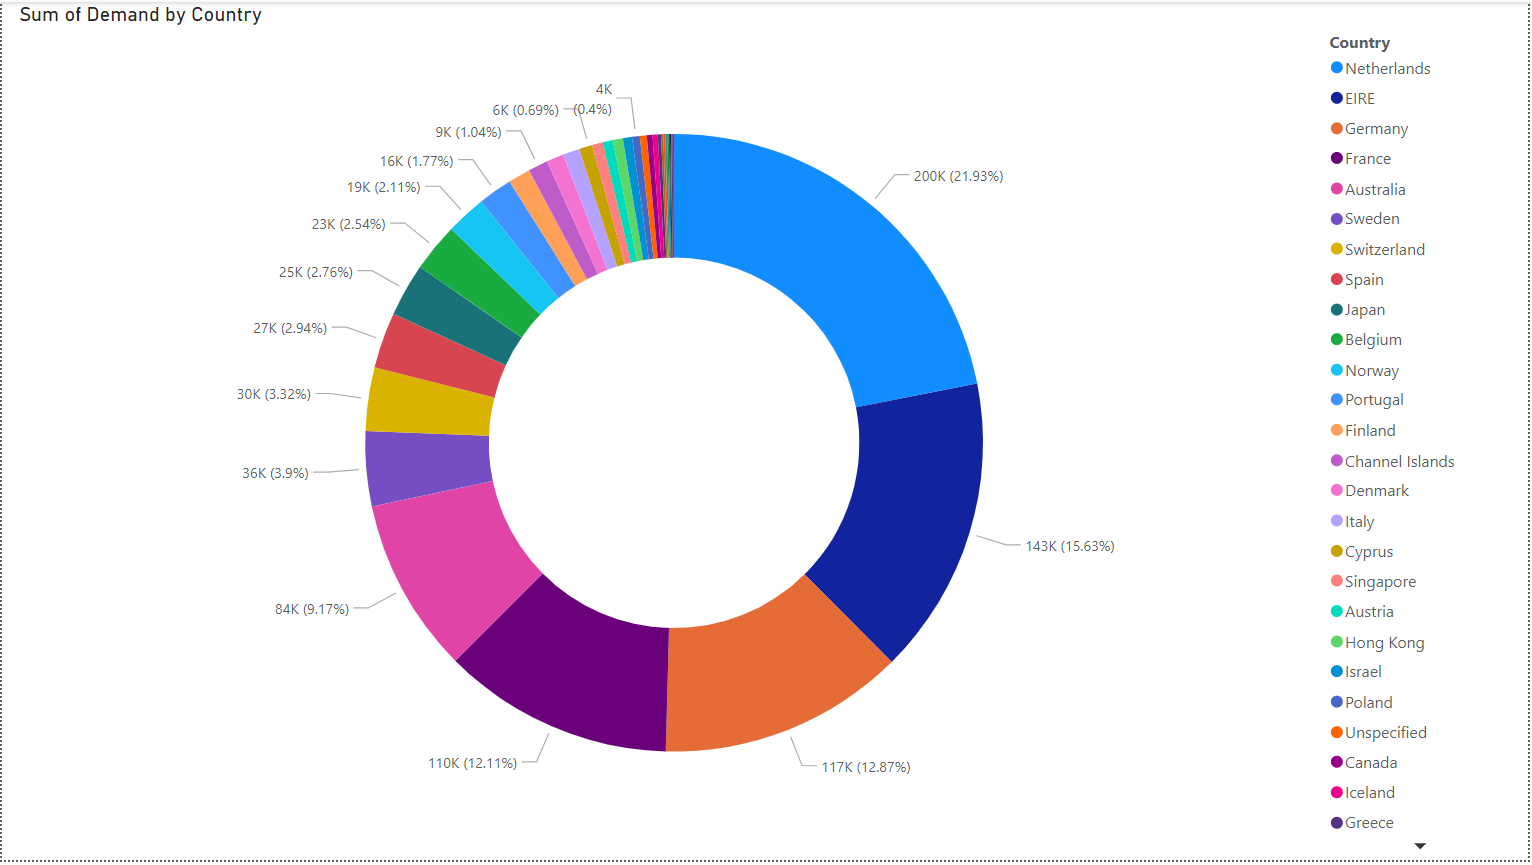

The dashboard page shown, as its layout file describes it:
{"tool":"powerbi","page":{"name":"Question 4","canvas":[1280,720],"ordinal":3},"visuals":[{"type":"donutChart","fields":{"Category":["q4 final.Country"],"Y":["Sum(q4 final.Demand)"]},"box":[9.9,0,1258.8,720.6],"z":0}]}

Visuals, with their boxes in screenshot pixels (x1, y1, x2, y2), scaled from the page's 1280x720 canvas onto the 1532x865 screenshot:
donutChart - q4 final.Country x Sum(q4 final.Demand): 12, 0, 1518, 864
